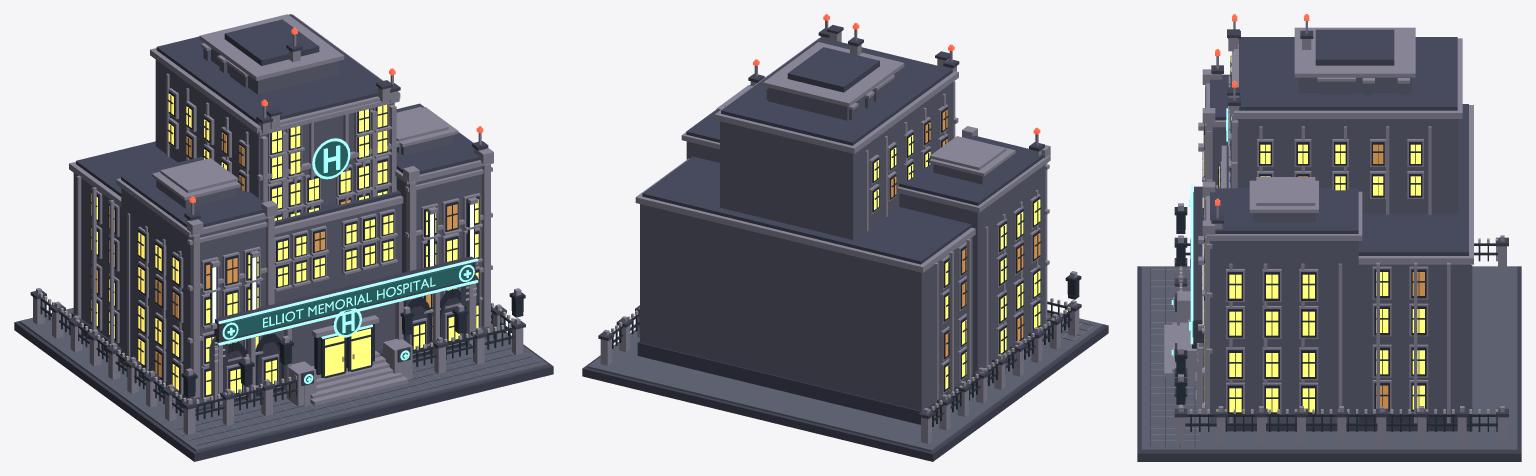
File: elliot_before_helipad.glb
The picture shows the model from 3 angles, left to right: view 1: azimuth 30°, elevation 25°; view 2: azimuth 150°, elevation 25°; view 3: azimuth 270°, elevation 25°; orthographic projection. The views are drawn at different scales.
Parts seen in each view (by area): view 1: SM_Elliot_Memorial_Hospital_8bit.002, SM_Elliot_Hospital_SignLetters.002; view 2: SM_Elliot_Memorial_Hospital_8bit.002; view 3: SM_Elliot_Memorial_Hospital_8bit.002.
Boxes of the visible parts, x1=… form: SM_Elliot_Memorial_Hospital_8bit.002: x1=14, y1=14, x2=553, y2=461; SM_Elliot_Hospital_SignLetters.002: x1=263, y1=277, x2=435, y2=327; SM_Elliot_Memorial_Hospital_8bit.002: x1=582, y1=14, x2=1108, y2=461; SM_Elliot_Memorial_Hospital_8bit.002: x1=1137, y1=14, x2=1521, y2=461.
Size of the model in its own units: 15.2 by 13.41 by 13.2.
